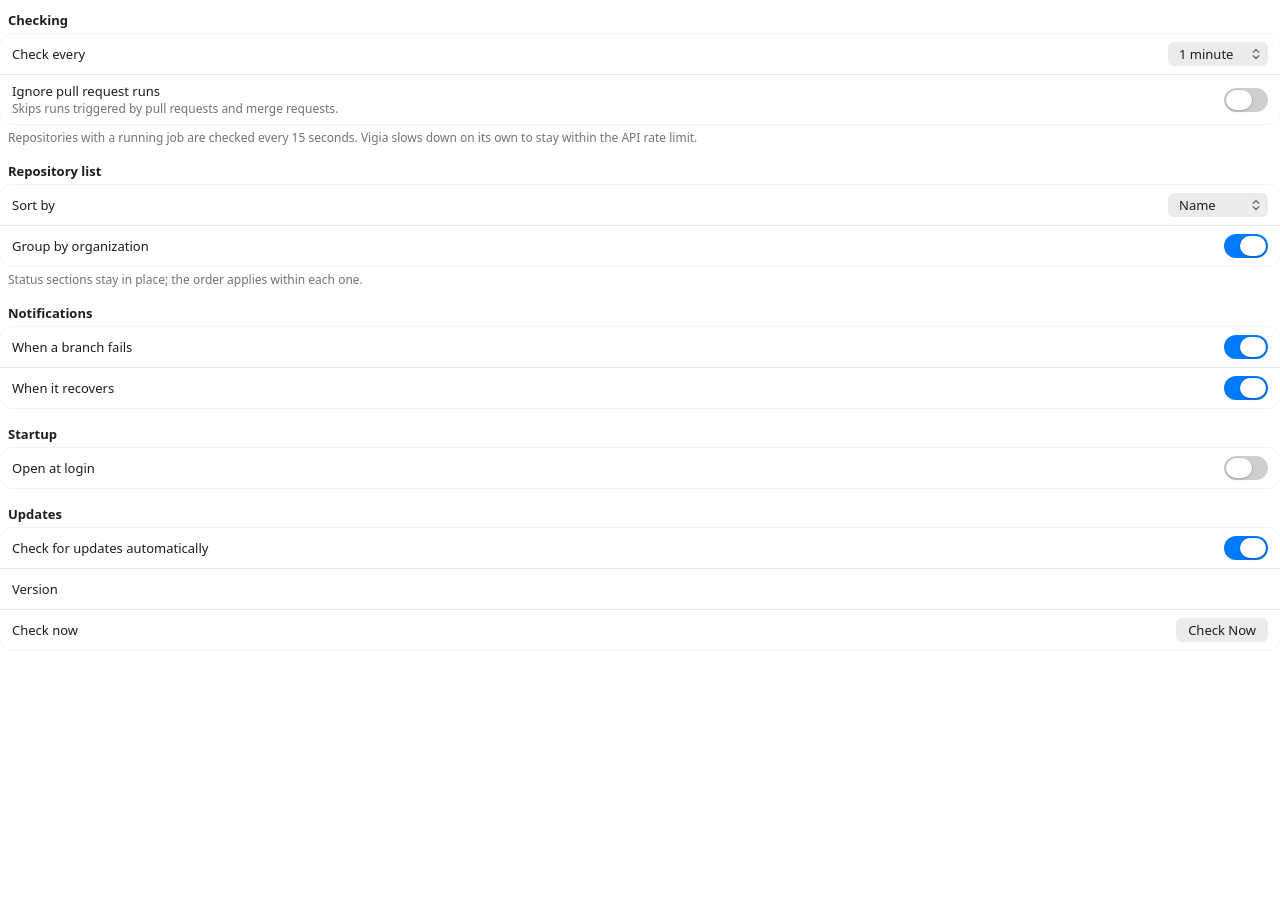
general settings › Check Now › reports a failed check
The width and height of the screenshot is (1280, 912).
What coordinates should you click on to do the following:
click the button "Check Now"
I would click on:
 (1222, 630)
Its box is 1176,618 -> 1268,642.
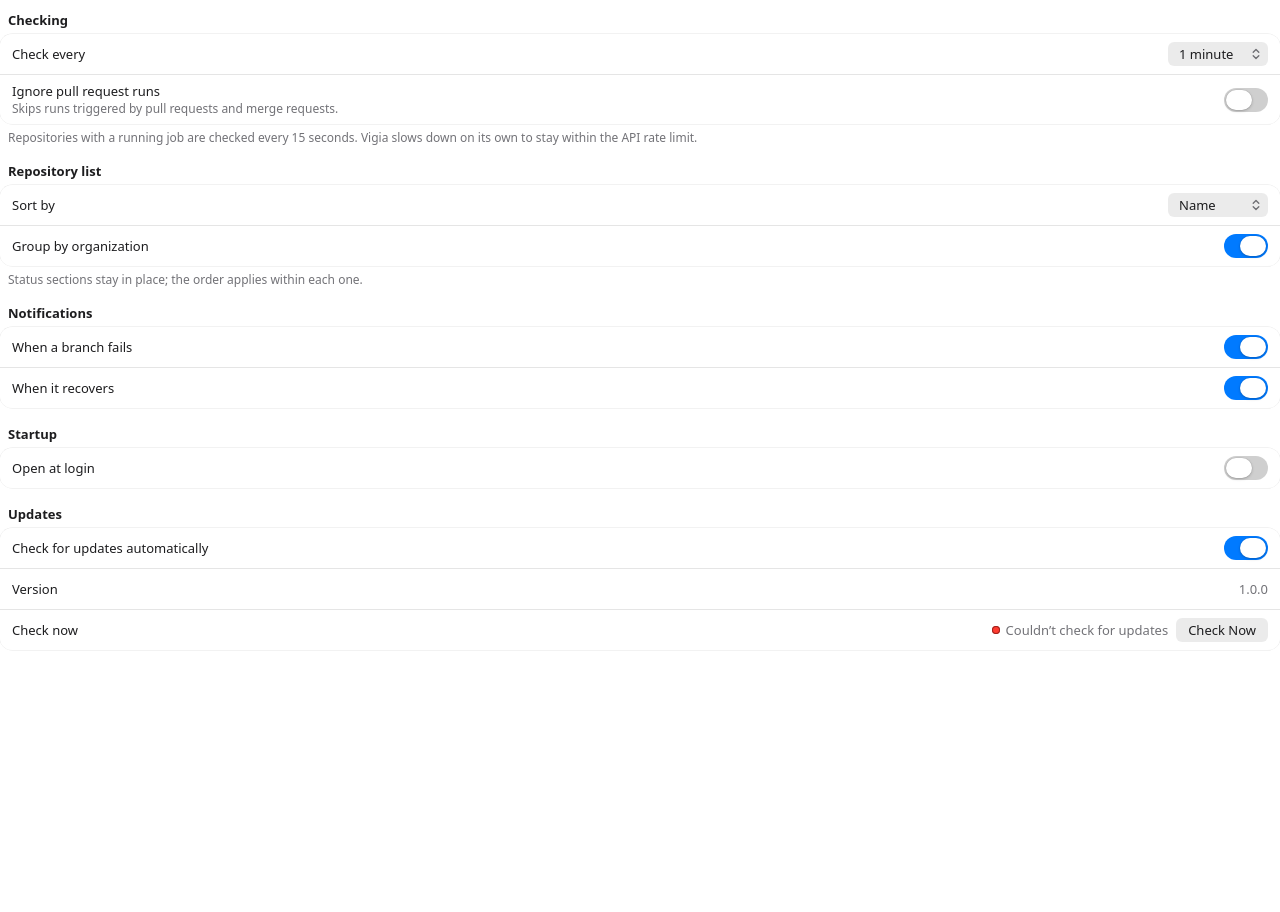
Now the text "Couldn’t check for updates" is shown, box 992,622 -> 1168,638
